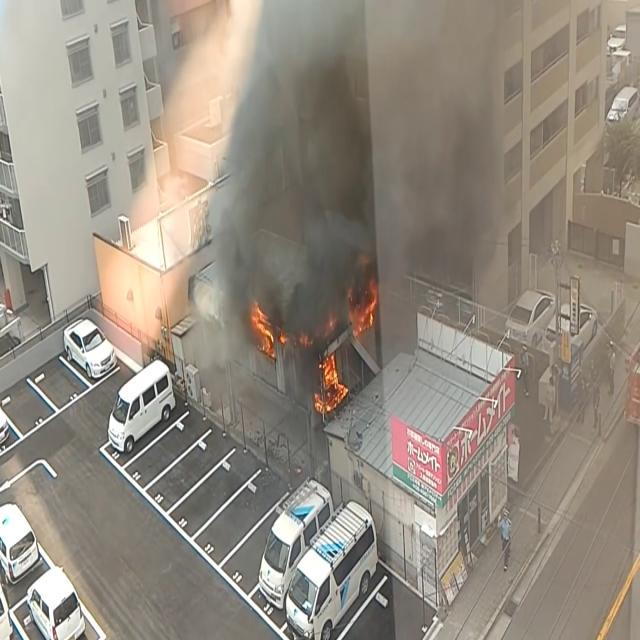Fire: (314, 342, 348, 416), (346, 270, 379, 342), (248, 296, 281, 358)
Smoke: (192, 0, 520, 345)
